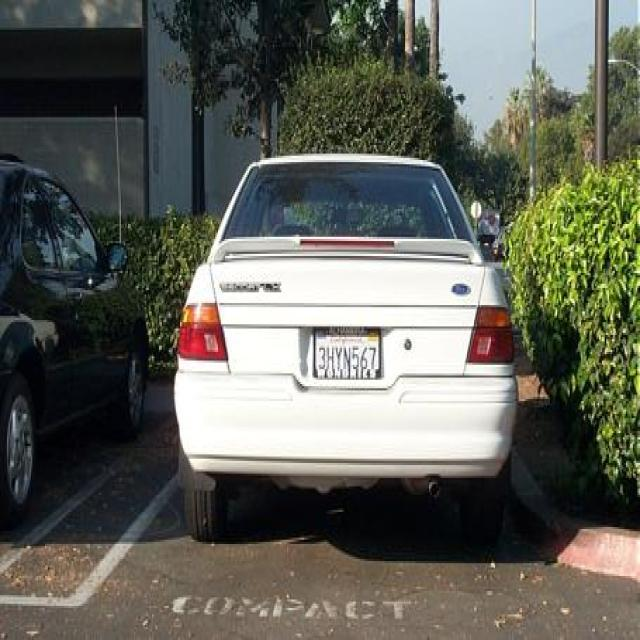car_back: (170, 133, 526, 542)
